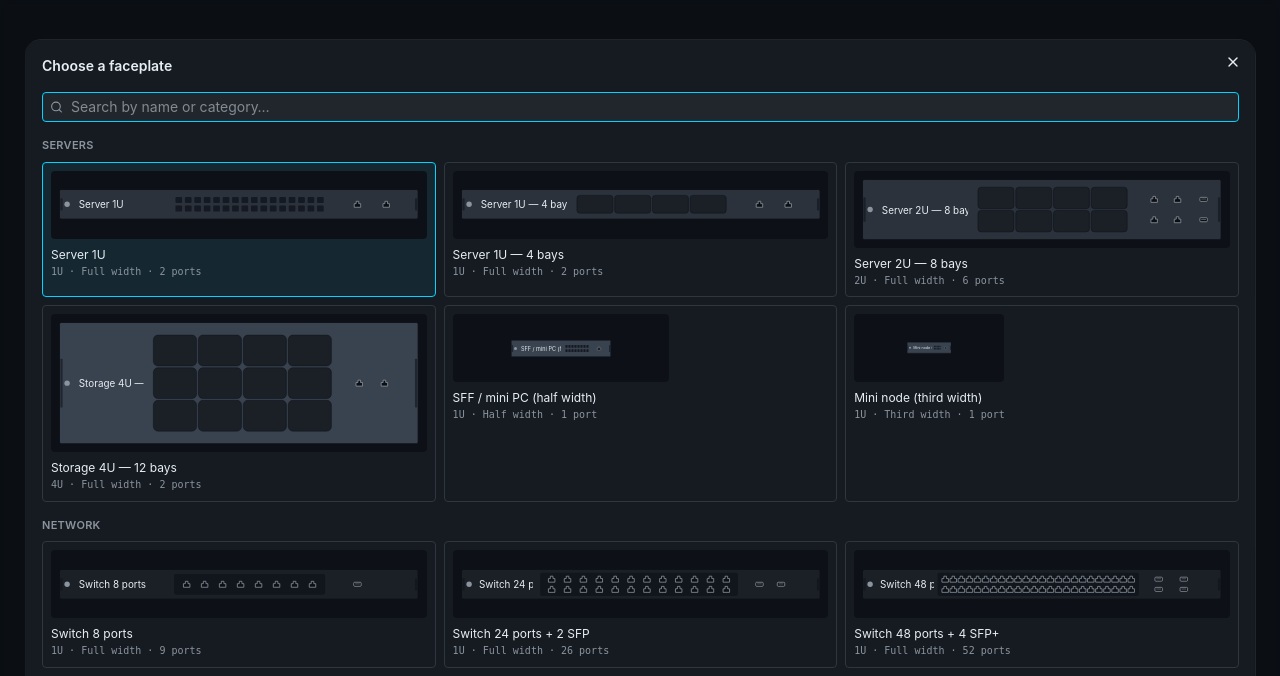
Scenario: FaceplatePicker › filters on name and on category
This screenshot has width=1280, height=676.
Type "switch" into the field named "Search faceplates" at (640, 107), box top-left (42, 92), bottom-right (1238, 122)
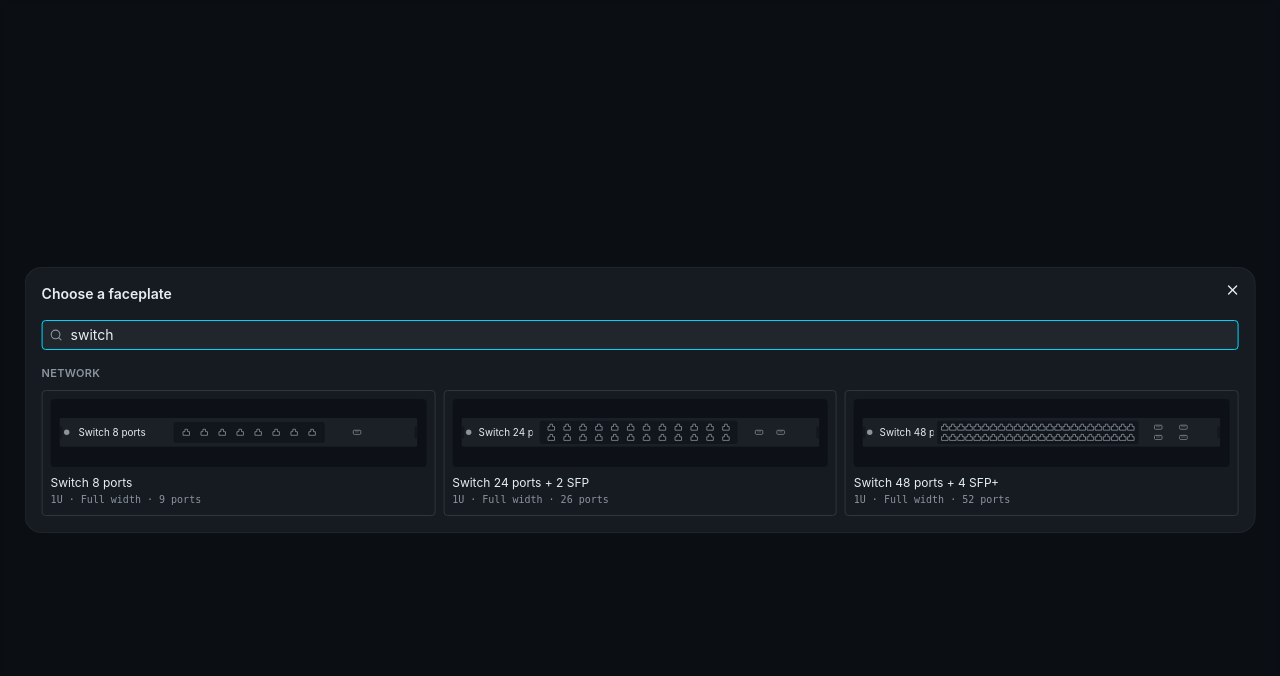
Expected: the button "Switch 8 ports" is shown, top-left (42, 390), bottom-right (435, 516)
Replace the text in the field named "Search faceplates" with "power" at (640, 335), box top-left (42, 320), bottom-right (1238, 350)
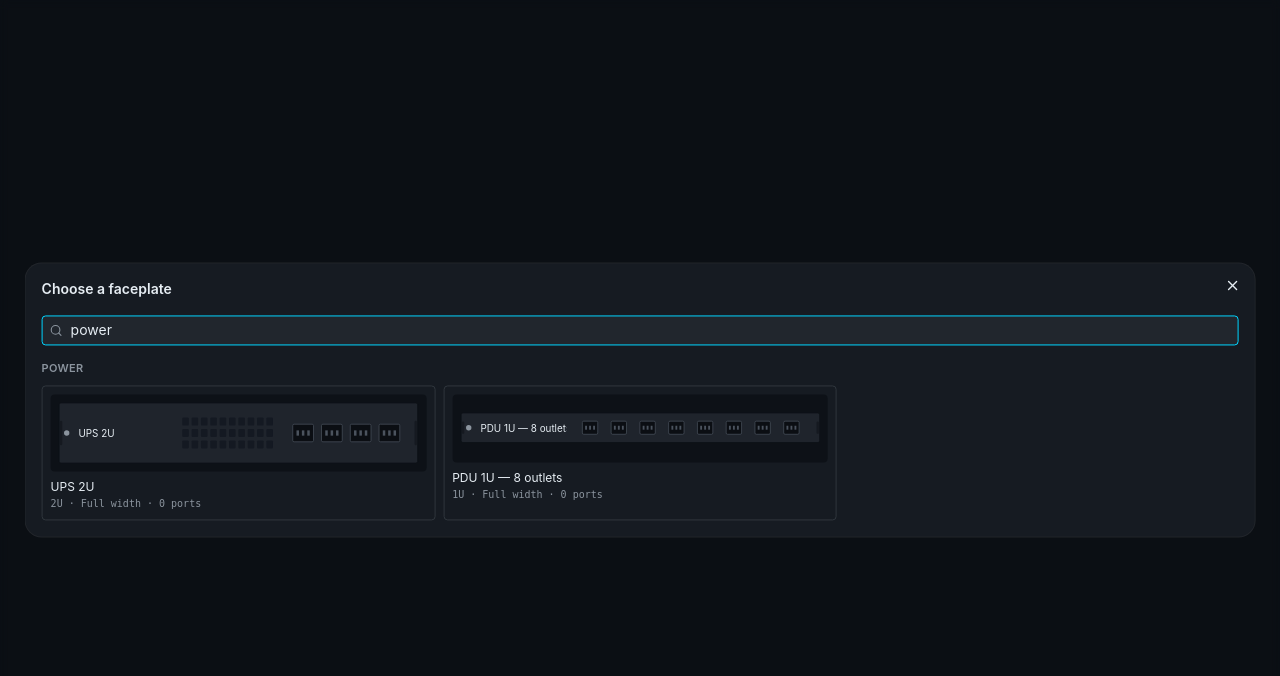
Expected: the button "PDU 1U — 8 outlets" is shown, top-left (443, 385), bottom-right (837, 520)
Expected: the button "Switch 8 ports" is gone
